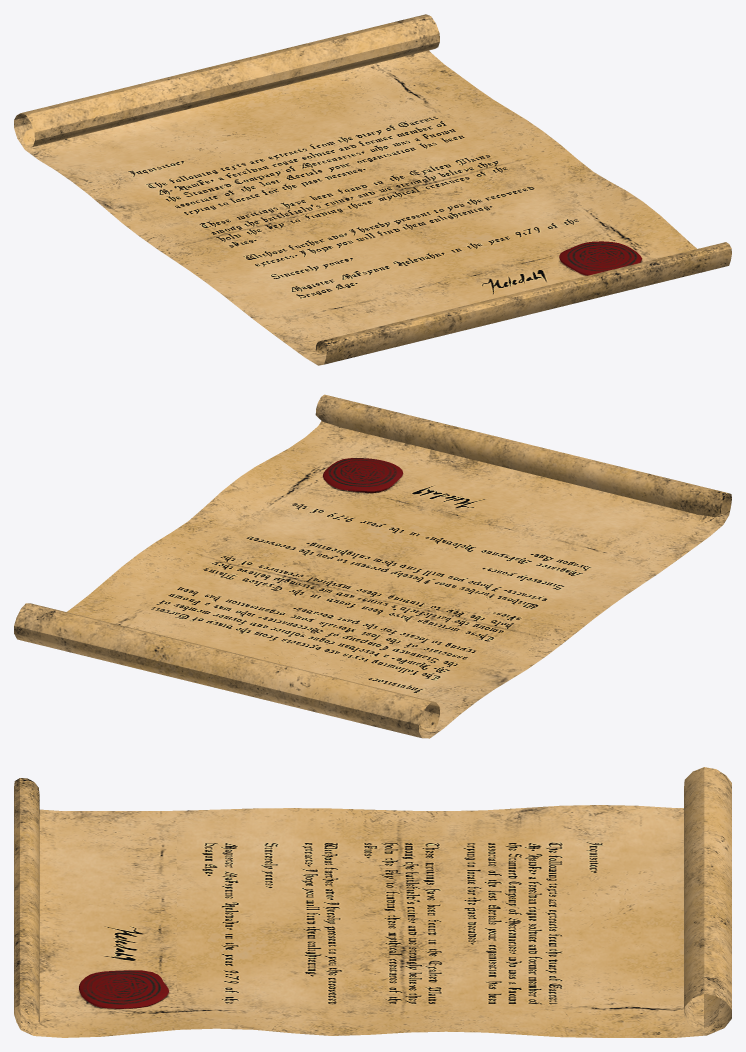
Rendered from Parchment Letter.fbx.
3 renders of one model, top to bottom at view 1: azimuth 30°, elevation 25°; view 2: azimuth 150°, elevation 25°; view 3: azimuth 270°, elevation 25°, orthographic. The views are drawn at different scales.
Parts seen in each view (by area): view 1: _gltfNode_0; view 2: _gltfNode_0; view 3: _gltfNode_0.
Part boxes in pixels (x1,y1,x2,y2): _gltfNode_0: (14, 14, 731, 365); _gltfNode_0: (14, 394, 731, 738); _gltfNode_0: (14, 767, 731, 1037).
Bounding box in the file's own units: 40.23 × 3.69 × 53.82.
1 material, 1 textured.
